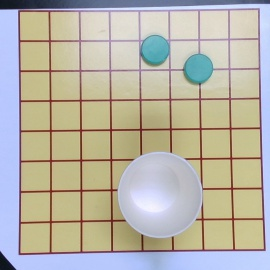cup: (117, 152, 203, 238)
green: (185, 54, 214, 83), (140, 36, 169, 64)
